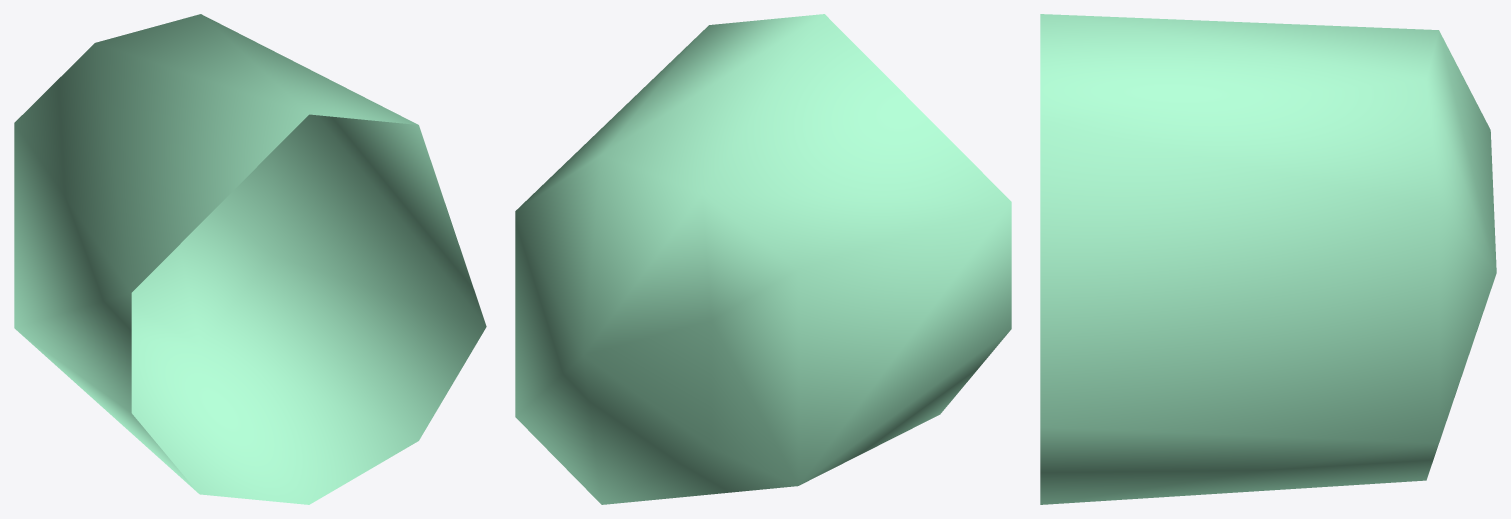
3 renders of one model, left to right at view 1: azimuth 30°, elevation 25°; view 2: azimuth 150°, elevation 25°; view 3: azimuth 270°, elevation 25°, orthographic. The views are drawn at different scales.
Visible parts, largest first — view 1: Object74; view 2: Object74; view 3: Object74.
Part boxes in pixels (x1,y1,x2,y2): Object74: [14, 14, 486, 504]; Object74: [515, 14, 1011, 504]; Object74: [1040, 14, 1496, 504].
Bounding box in the file's own units: 6180 × 6498 × 5702.
